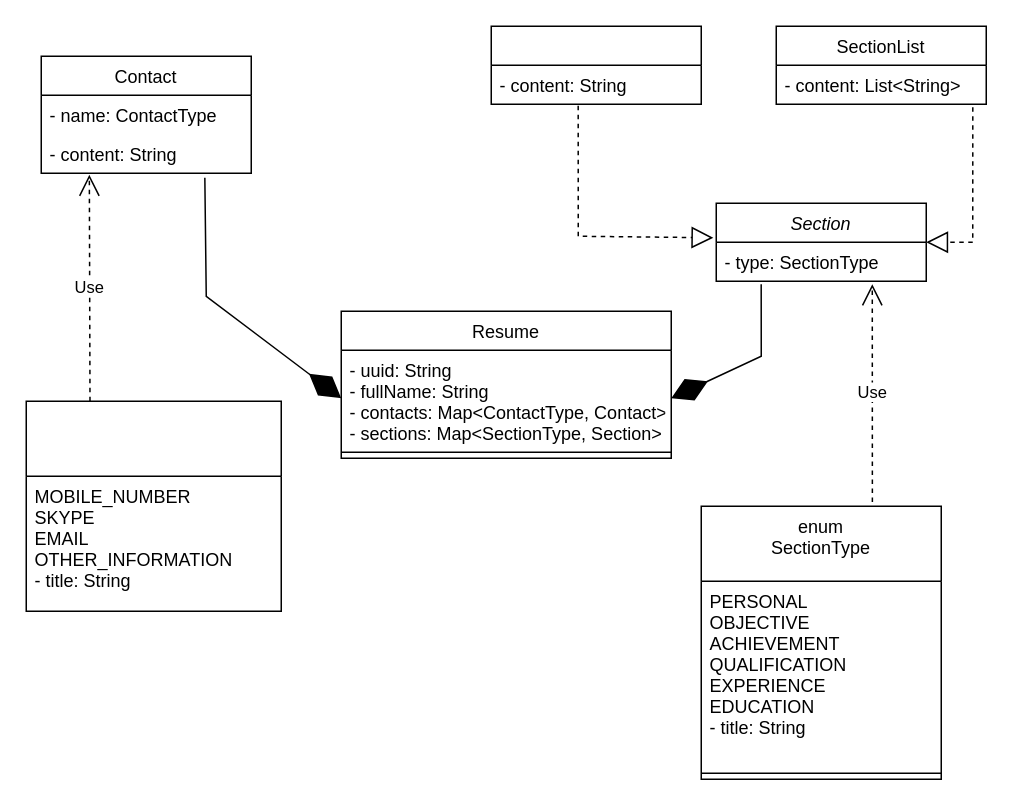
Image size: 1022x806. Some labels were removed from this diagram. Each missing label, with the box of its shape:
enum ContactType: (25, 400, 281, 611)
SectionLine: (490, 25, 701, 104)
